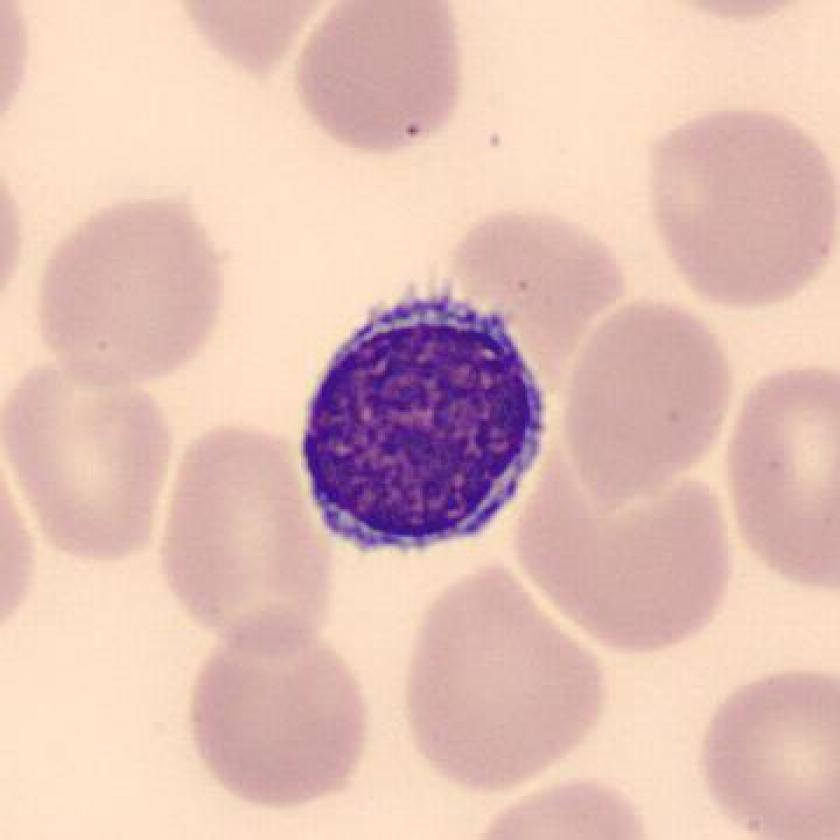lymphocyte: (277, 286, 564, 568)
